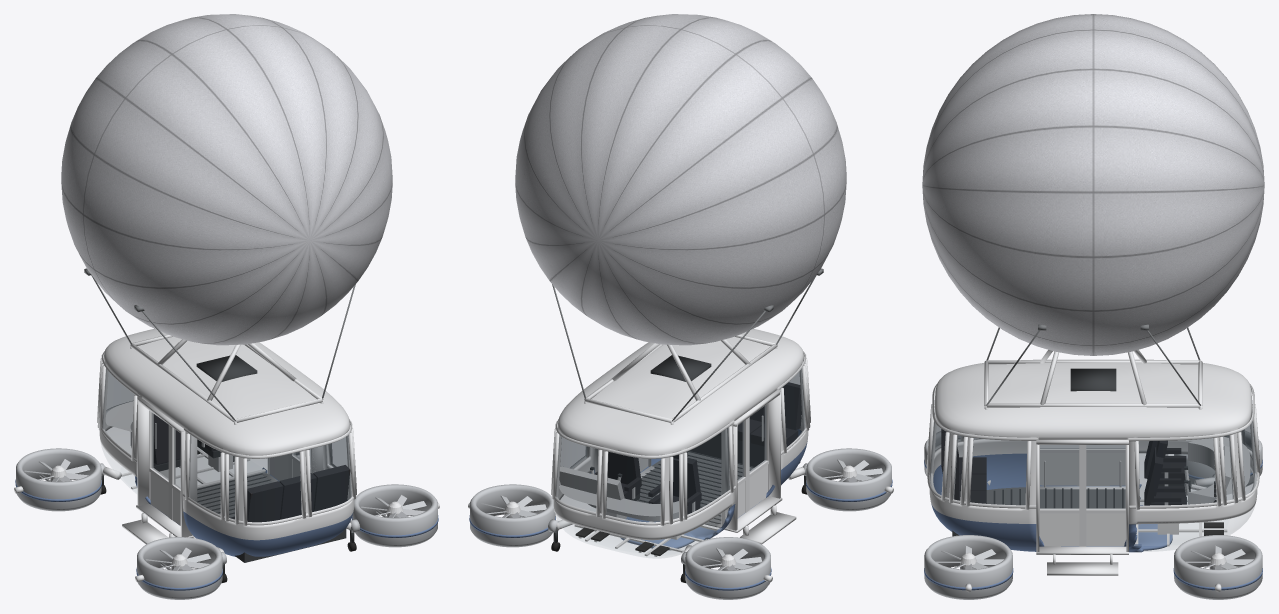
Rendered from aerostat.glb.
3 views of the same model, side by side, from view 1: azimuth 30°, elevation 25°; view 2: azimuth 150°, elevation 25°; view 3: azimuth 270°, elevation 25° (orthographic). The views are drawn at different scales.
Parts seen in each view (by area): view 1: balloon, cabin, cabin_glass, trim, interior, duct_FL, duct_BL, duct_BR, rig, door_L1, door_L2, arms (+3 smaller); view 2: balloon, cabin, cabin_glass, interior, trim, duct_BL, duct_FL, duct_FR, rig, door_L2, door_L1, arms (+3 smaller); view 3: balloon, cabin, cabin_glass, trim, interior, rig, door_R1, duct_BR, duct_FR, door_R2, door_L1, door_L2 (+3 smaller).
Part boxes in pixels (x1,y1,x2,y2): balloon: (61, 14, 392, 345); cabin: (99, 328, 354, 556); cabin_glass: (101, 369, 351, 521); trim: (97, 351, 356, 544); interior: (105, 401, 350, 562); duct_FL: (14, 448, 101, 511); duct_BL: (135, 537, 222, 599); duct_BR: (352, 484, 439, 547); rig: (84, 268, 355, 424); door_L1: (149, 410, 170, 518); door_L2: (170, 426, 194, 525); arms: (100, 456, 359, 582); balloon: (515, 14, 846, 345); cabin: (553, 328, 808, 550); cabin_glass: (555, 369, 805, 558); interior: (559, 382, 801, 556); trim: (551, 351, 810, 544); duct_BL: (806, 448, 893, 511); duct_FL: (685, 537, 772, 599); duct_FR: (468, 484, 555, 547); rig: (552, 268, 823, 424); door_L2: (748, 403, 768, 510); door_L1: (721, 418, 747, 526); arms: (548, 463, 807, 582); balloon: (922, 14, 1264, 355); cabin: (929, 359, 1257, 552); cabin_glass: (930, 400, 1256, 551); trim: (926, 384, 1260, 575); interior: (941, 429, 1250, 546); rig: (984, 324, 1202, 409); door_R1: (1082, 445, 1126, 546); duct_BR: (924, 535, 1013, 599); duct_FR: (1173, 535, 1262, 599); door_R2: (1039, 445, 1082, 546); door_L1: (1086, 445, 1125, 485); door_L2: (1040, 445, 1079, 485).
Bounding box in the file's own units: 5.04 × 7.87 × 4.8.
Materials: 16 (2 with a texture image).
